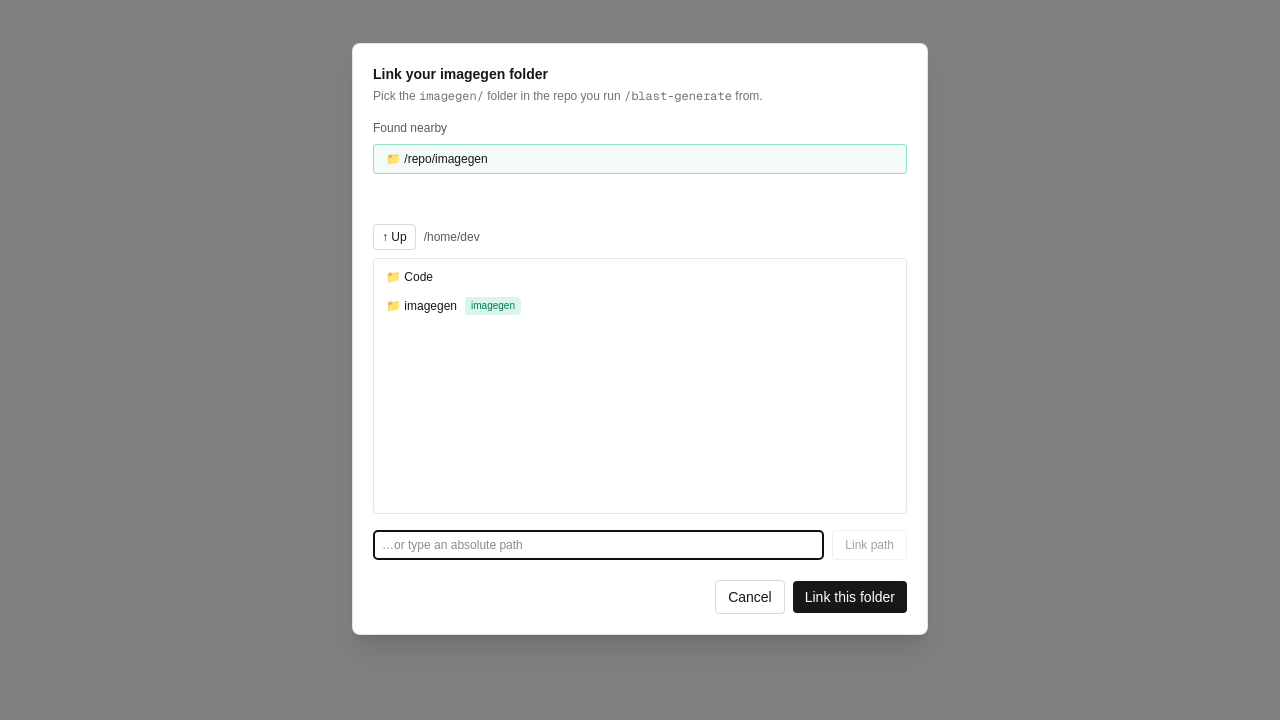
failures stay inside the dialog › shows a browse failure without losing the listing already on screen
Expected: the text "/home/dev" is shown, [424,230,480,244]
Click the button "📁 Code" at (395, 277), box [378,263,902,291]
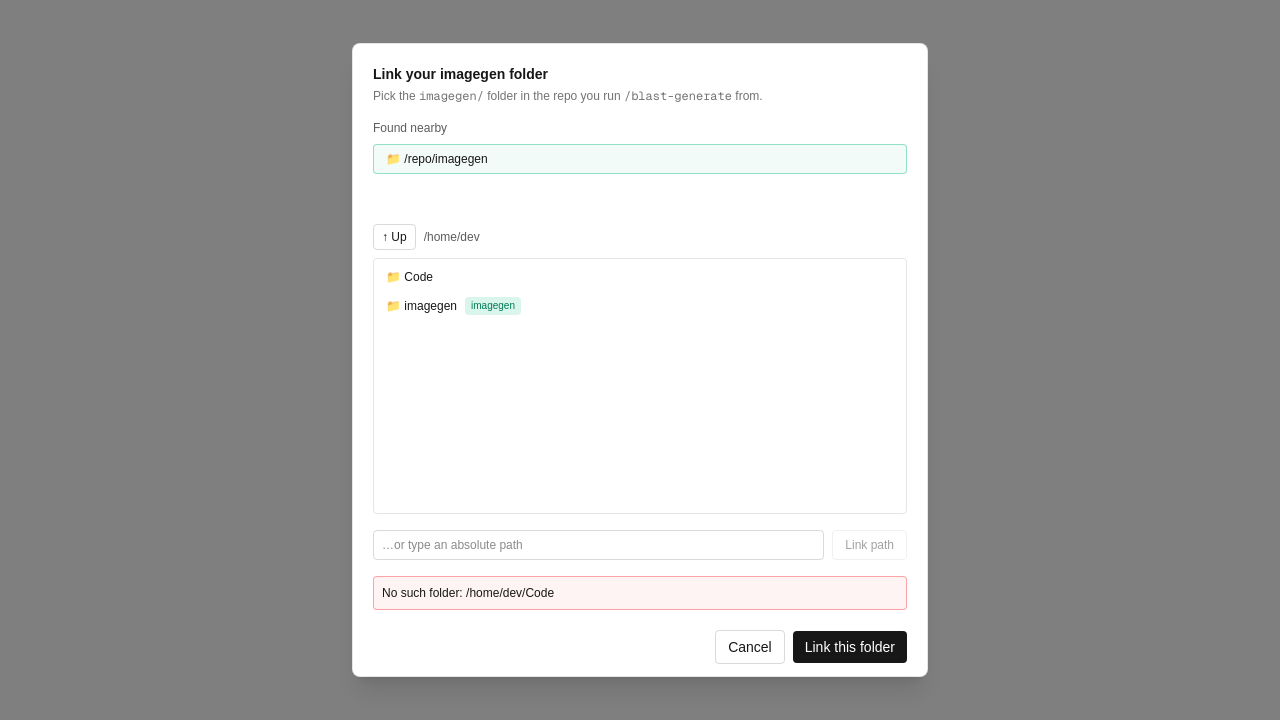
Expected: the text "/home/dev" is shown, [424,230,480,244]
Expected: the message reads "No such folder: /home/dev/Code", [382,586,554,600]
